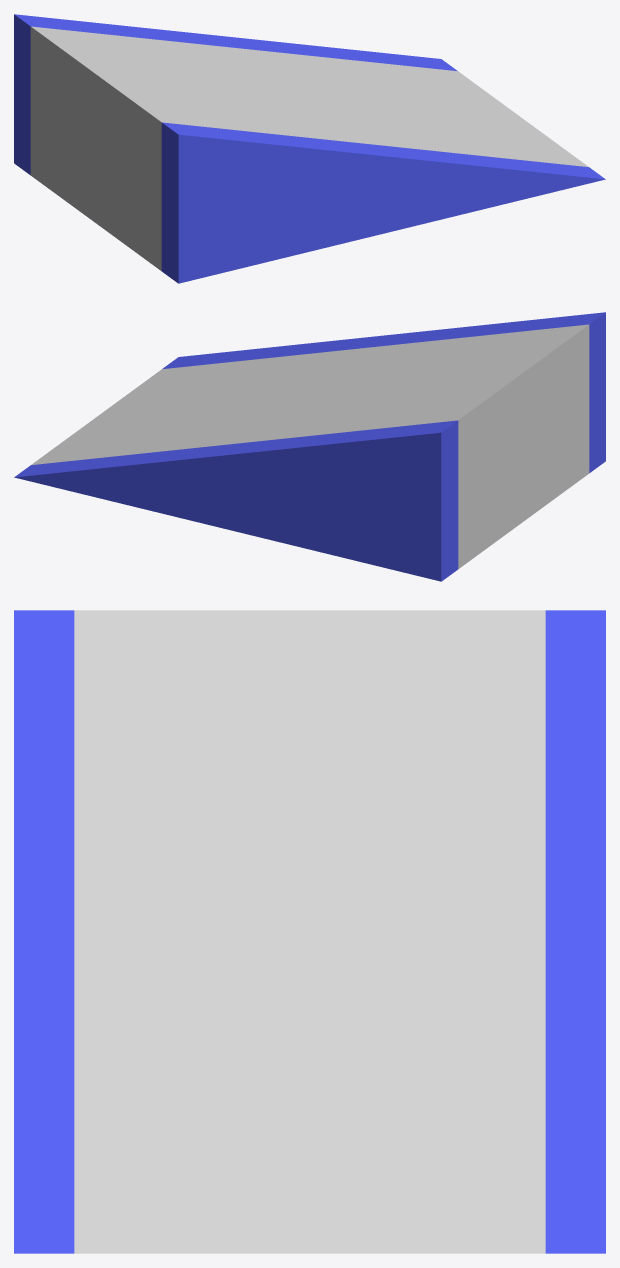
The model's file is springboard.fbx.
3 renders of one model, top to bottom at view 1: azimuth 30°, elevation 25°; view 2: azimuth 150°, elevation 25°; view 3: azimuth 270°, elevation 25°, orthographic. The views are drawn at different scales.
Parts seen in each view (by area): view 1: Plane; view 2: Plane; view 3: Plane.
Part boxes in pixels (x1,y1,x2,y2): Plane: (14, 14, 605, 283); Plane: (14, 312, 605, 581); Plane: (14, 610, 605, 1253).
Size of the model in its own units: 300 by 100 by 200.
